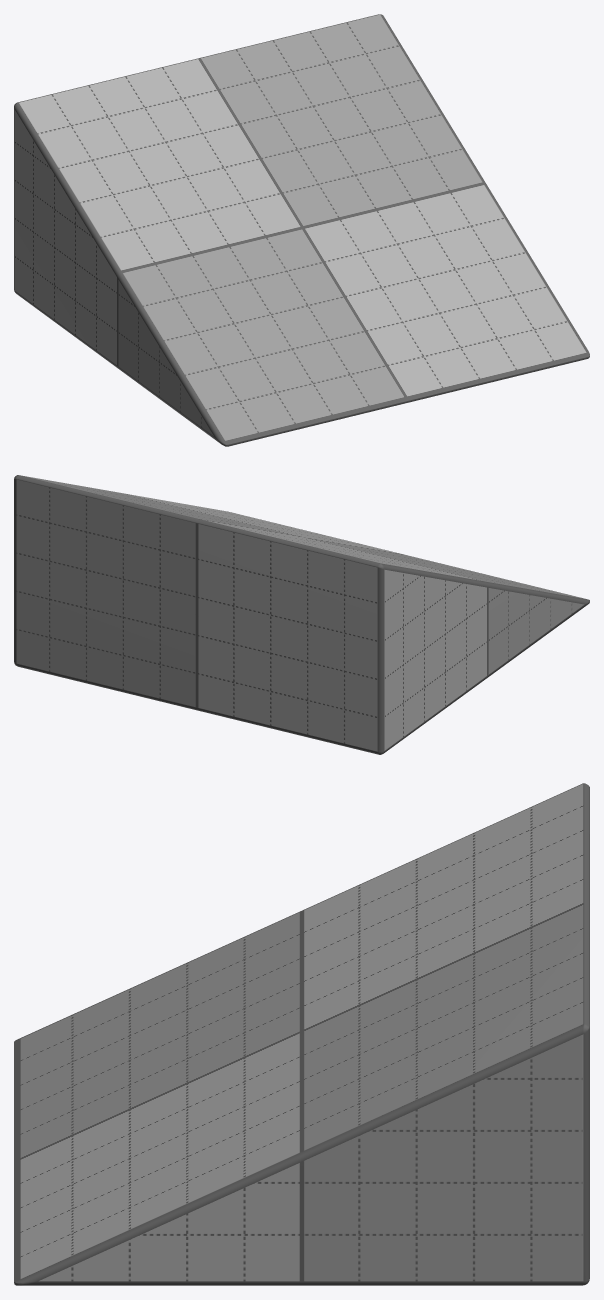
File: Ramp1x1_2x1.fbx
The picture shows the model from 3 angles, top to bottom: view 1: azimuth 30°, elevation 25°; view 2: azimuth 150°, elevation 25°; view 3: azimuth 270°, elevation 25°; orthographic projection. The views are drawn at different scales.
Visible parts, largest first — view 1: Ramp1x1_2x1; view 2: Ramp1x1_2x1; view 3: Ramp1x1_2x1.
Part boxes in pixels (<box>): Ramp1x1_2x1: <box>14,14,589,446</box>; Ramp1x1_2x1: <box>14,475,589,754</box>; Ramp1x1_2x1: <box>14,783,589,1285</box>.
Bounding box in the file's own units: 100 × 49.45 × 98.89.
